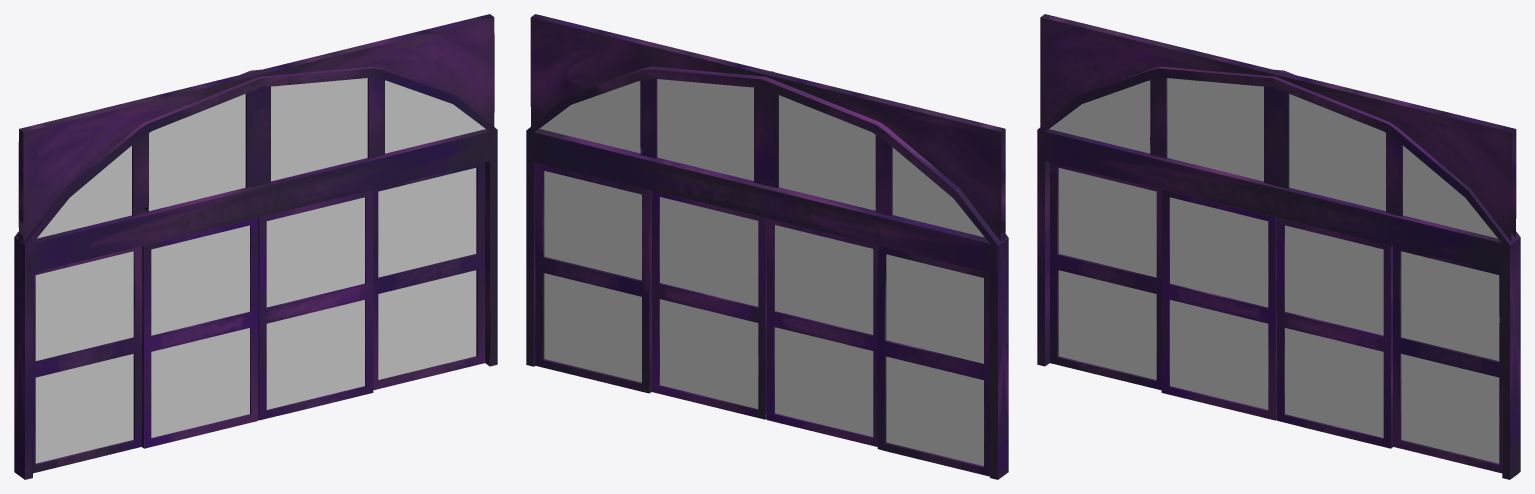
Rendered from entrance_door.fbx.
3 views of the same model, side by side, from view 1: azimuth 30°, elevation 25°; view 2: azimuth 150°, elevation 25°; view 3: azimuth 330°, elevation 25° (orthographic).
Parts seen in each view (by area): view 1: window_sliding_door.001, frame_window_sliding_door.001, entrance_wall2.001, glass_sliding_door.001, glass_sliding_door.002, sliding_door.001, sliding_door.002; view 2: window_sliding_door.001, frame_window_sliding_door.001, entrance_wall2.001, glass_sliding_door.001, glass_sliding_door.002, sliding_door.002, sliding_door.001; view 3: window_sliding_door.001, frame_window_sliding_door.001, entrance_wall2.001, glass_sliding_door.002, glass_sliding_door.001, sliding_door.002, sliding_door.001.
Part boxes in pixels (<box>): window_sliding_door.001: <box>35,78,485,463</box>; frame_window_sliding_door.001: <box>14,66,497,479</box>; entrance_wall2.001: <box>18,14,494,242</box>; glass_sliding_door.001: <box>151,225,249,437</box>; glass_sliding_door.002: <box>266,197,364,409</box>; sliding_door.001: <box>142,218,258,448</box>; sliding_door.002: <box>258,190,373,420</box>; window_sliding_door.001: <box>539,79,984,465</box>; frame_window_sliding_door.001: <box>526,66,1008,479</box>; entrance_wall2.001: <box>530,14,1005,241</box>; glass_sliding_door.001: <box>775,225,873,436</box>; glass_sliding_door.002: <box>660,197,758,408</box>; sliding_door.002: <box>652,191,766,419</box>; sliding_door.001: <box>766,219,877,446</box>; window_sliding_door.001: <box>1049,78,1499,463</box>; frame_window_sliding_door.001: <box>1037,66,1520,479</box>; entrance_wall2.001: <box>1040,14,1516,241</box>; glass_sliding_door.002: <box>1285,225,1383,437</box>; glass_sliding_door.001: <box>1170,197,1268,409</box>; sliding_door.002: <box>1276,218,1393,448</box>; sliding_door.001: <box>1161,190,1276,420</box>.
Size of the model in its own units: 2887 by 115 by 2019.
